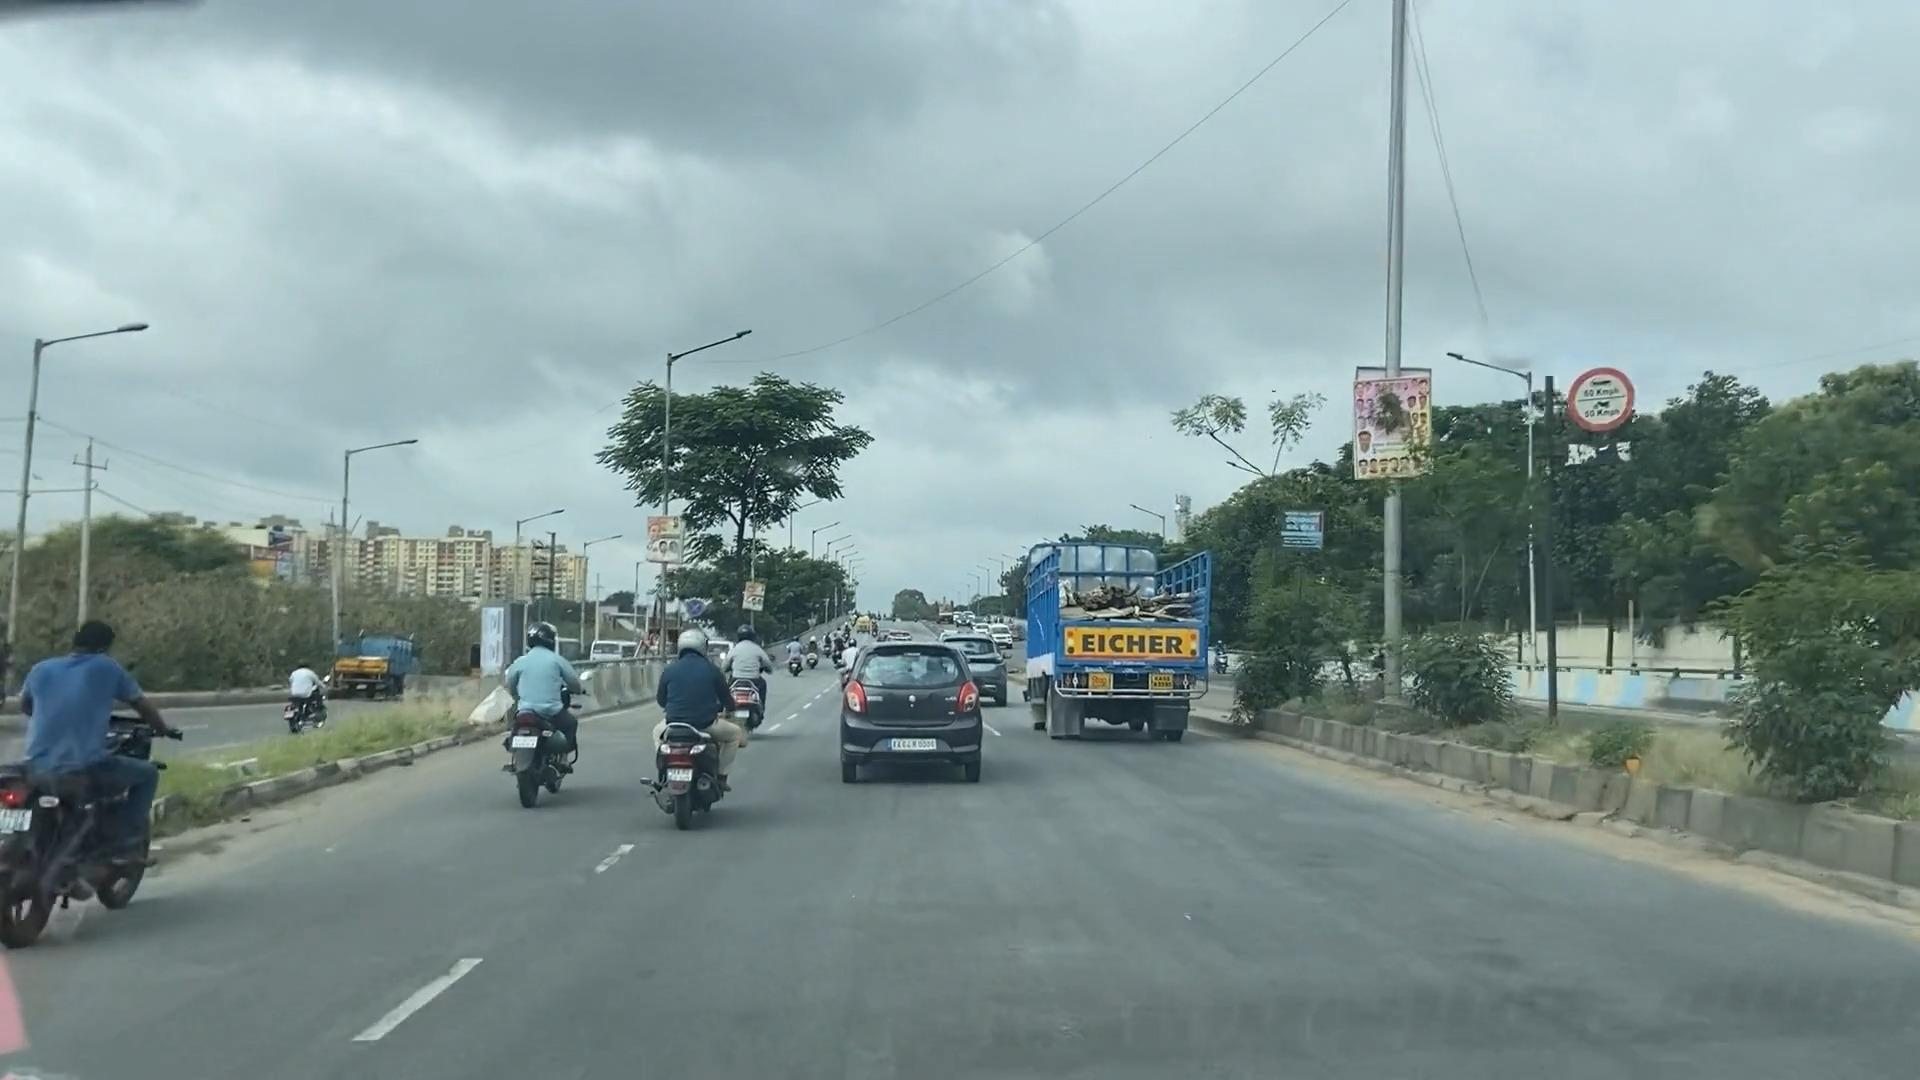HMV: (1027, 520, 1209, 758)
LMV: (3, 637, 170, 924), (827, 650, 984, 769), (487, 620, 593, 786), (646, 640, 737, 815)
